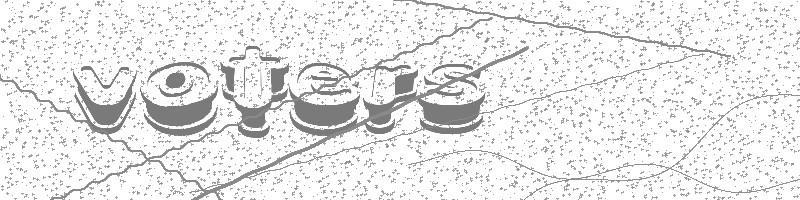e: (289, 60, 365, 139)
o: (141, 62, 218, 137)
r: (362, 60, 420, 138)
s: (420, 61, 488, 141)
t: (221, 42, 291, 146)
v: (66, 63, 138, 136)
